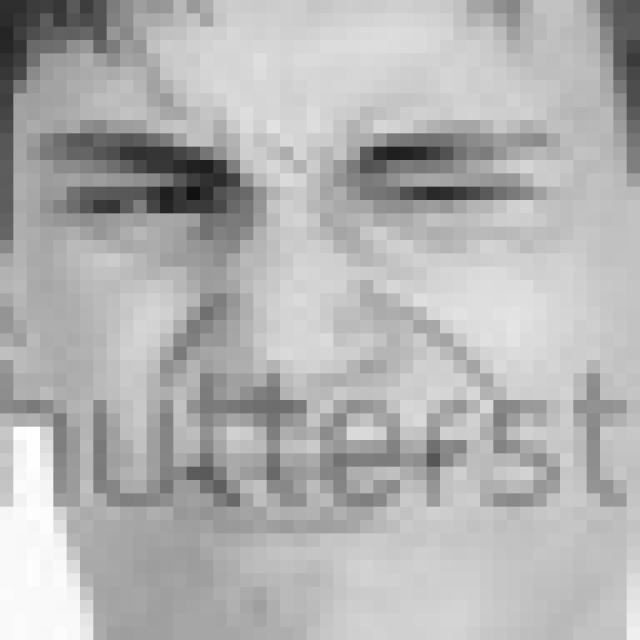disgust: (30, 105, 572, 548)
